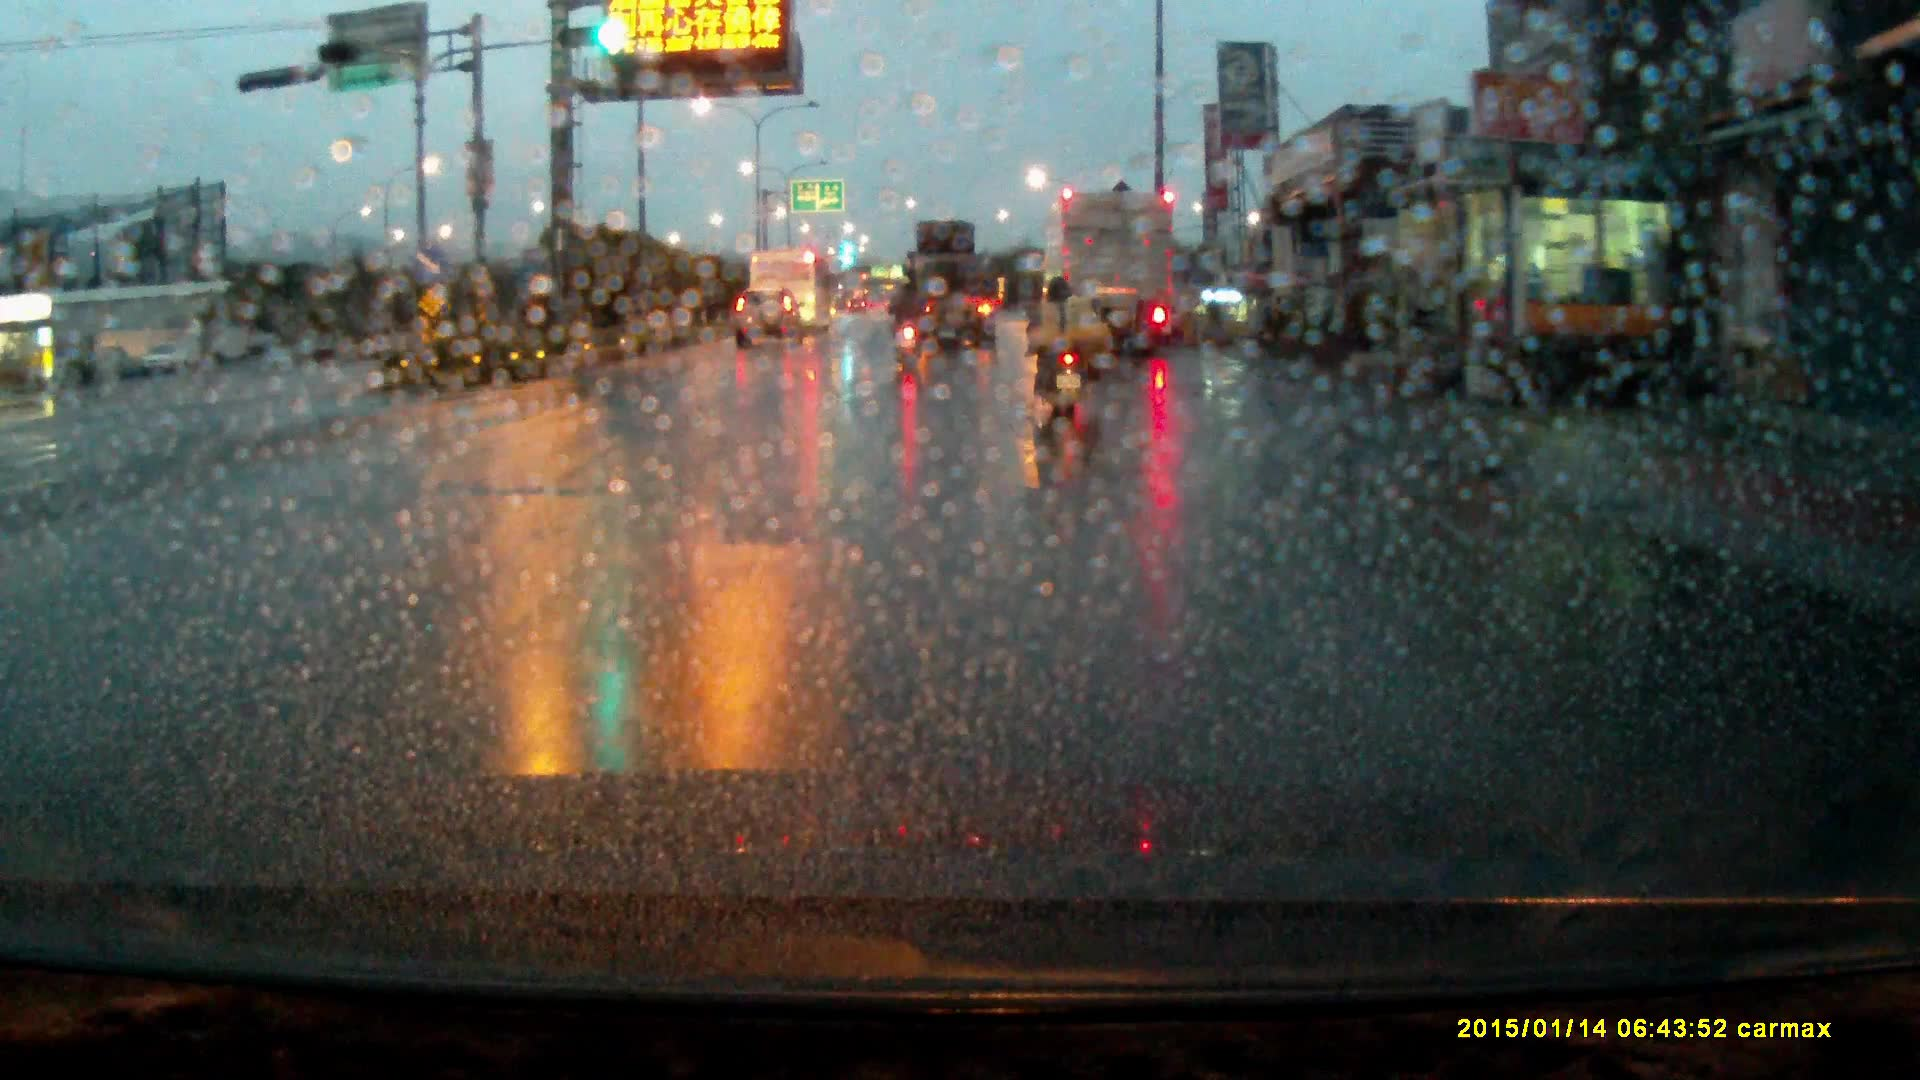rider: (1024, 270, 1104, 425), (891, 269, 930, 363)
vehicle: (1044, 198, 1178, 361), (899, 218, 1000, 353), (762, 244, 837, 327), (735, 285, 806, 351)
